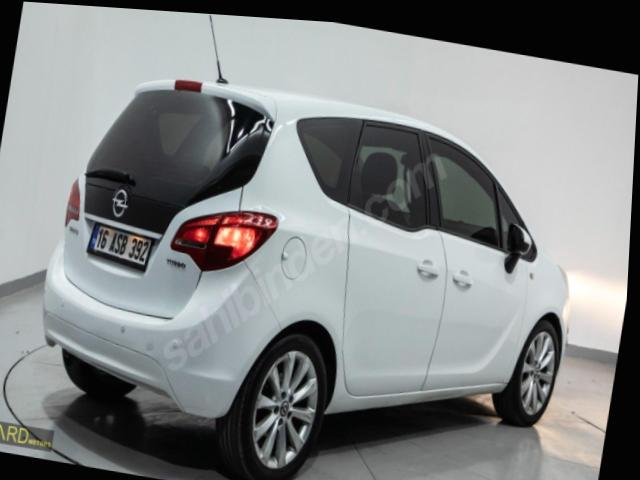plaka: (88, 223, 153, 270)
